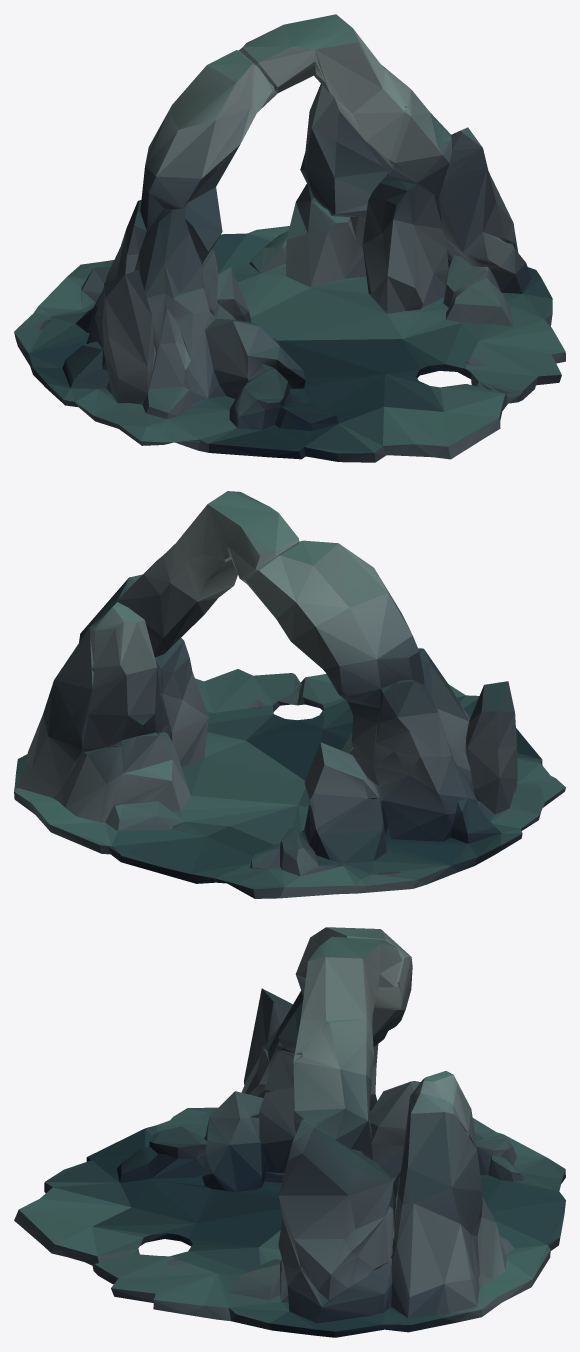
3 views of the same model, one above another, from view 1: azimuth 30°, elevation 25°; view 2: azimuth 150°, elevation 25°; view 3: azimuth 270°, elevation 25° (orthographic). The views are drawn at different scales.
Visible parts, largest first — view 1: output_unwrapped; view 2: output_unwrapped; view 3: output_unwrapped.
Boxes of the visible parts, x1,y1,x2,y2 form: output_unwrapped: (14, 14, 565, 462); output_unwrapped: (14, 491, 565, 898); output_unwrapped: (14, 927, 565, 1337).
Bounding box in the file's own units: 1.89 × 1.11 × 1.9.
